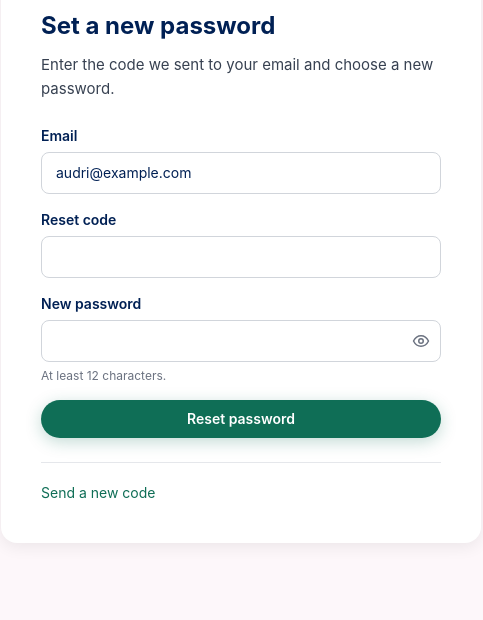
Scenario: ResetForgottenPasswordForm › surfaces other ApiError codes as form-level errors
In the field labelled "Reset code": (241, 257) [41, 236, 441, 278], type "123456"
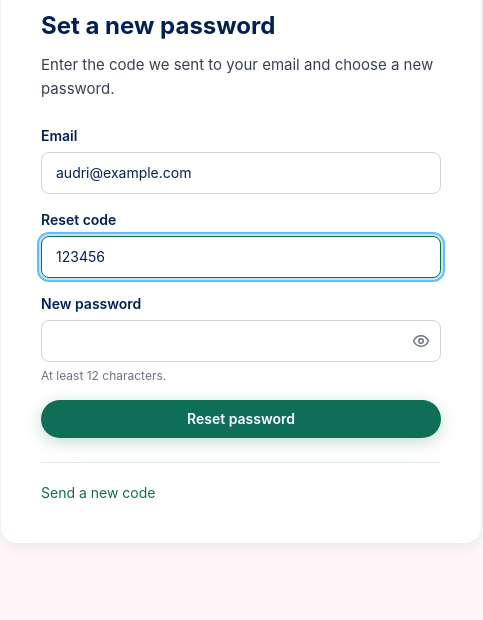
In the password field labelled "New password": (241, 341) [41, 320, 441, 362], type "Strong!Pass99"
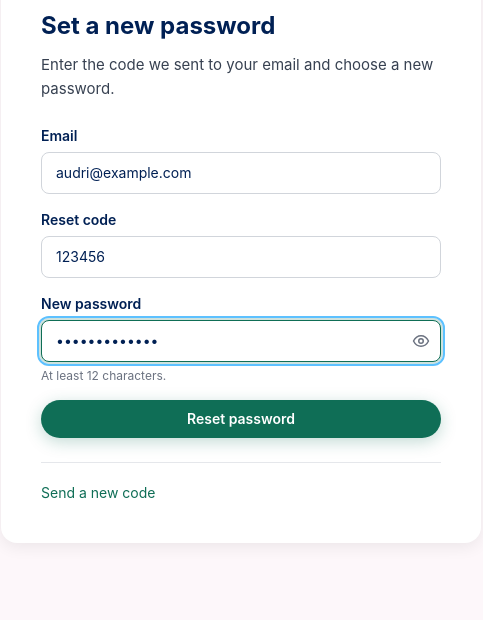
Click the button "Reset password": click(241, 419) [41, 400, 441, 438]
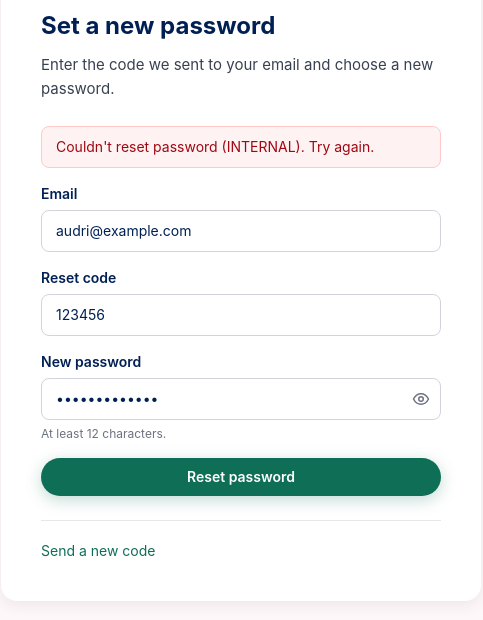
Expected: the text "Couldn't reset password (INTERNAL). Try again." is shown, [41, 126, 441, 168]
